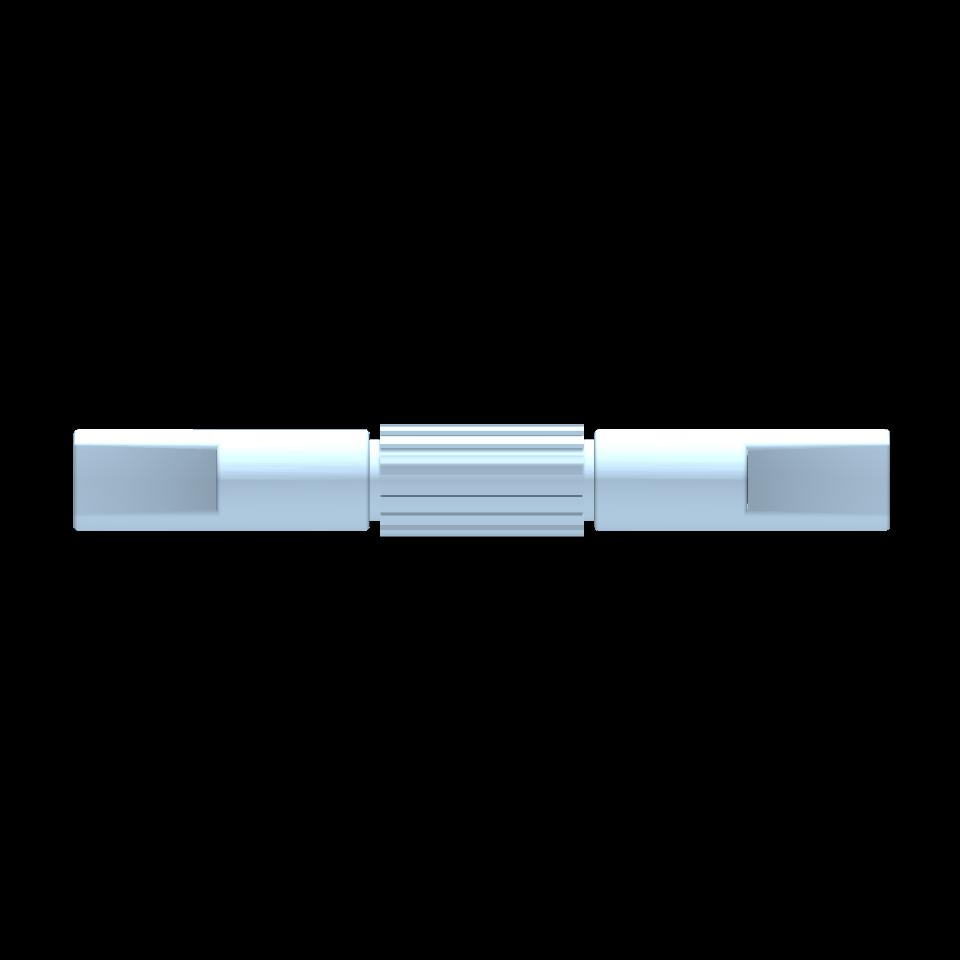Straight: (381, 423, 583, 534)
